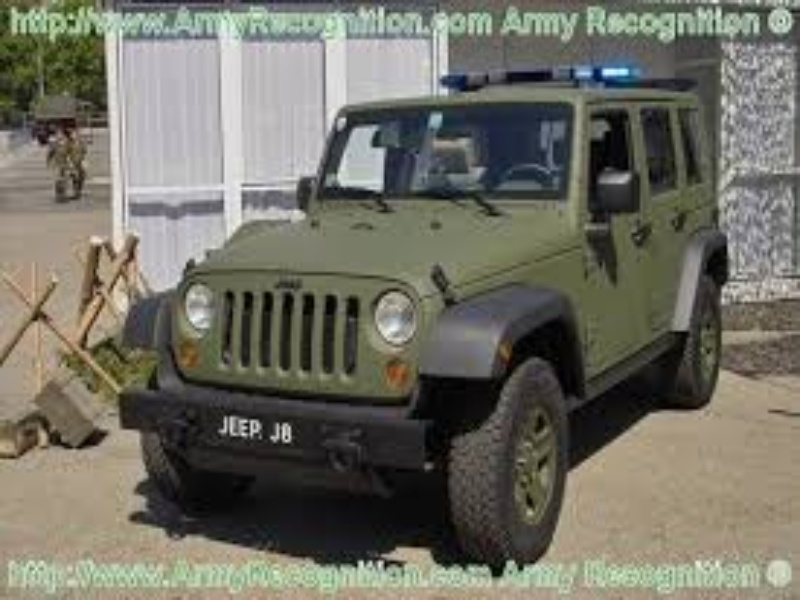jeep: (114, 62, 733, 558)
